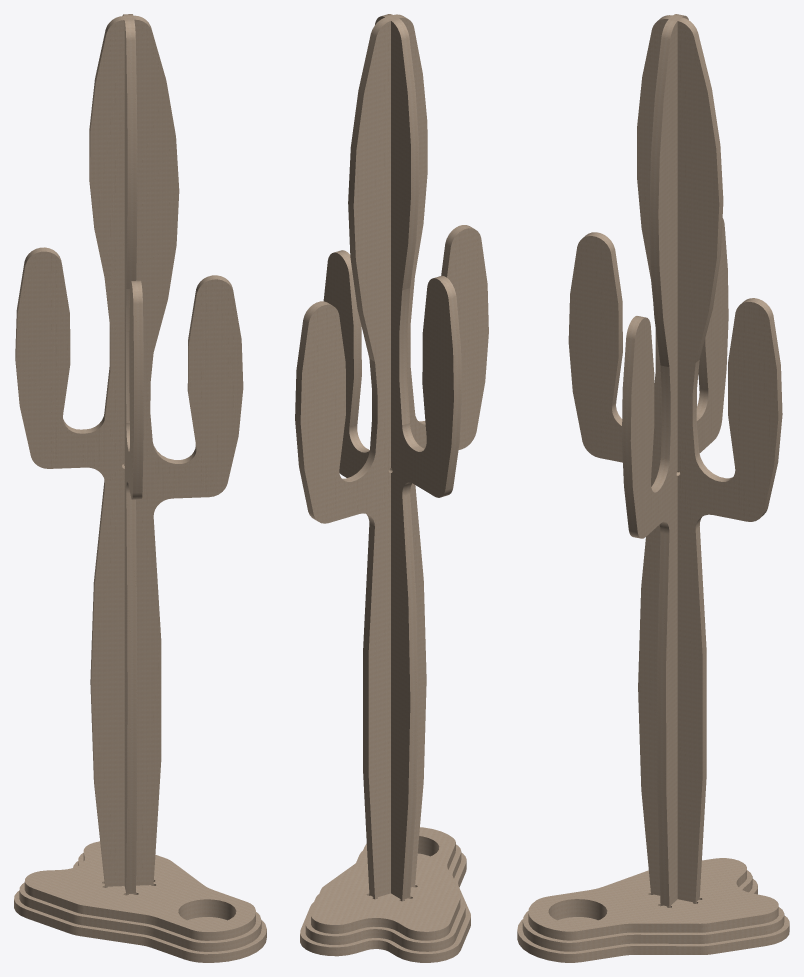
File: cacti_a_v2.gltf
3 renders of one model, left to right at view 1: azimuth 30°, elevation 25°; view 2: azimuth 150°, elevation 25°; view 3: azimuth 270°, elevation 25°, orthographic.
Parts seen in each view (by area): view 1: CACTI ASSEMBLY v3; view 2: CACTI ASSEMBLY v3; view 3: CACTI ASSEMBLY v3.
Part boxes in pixels (x1=…): CACTI ASSEMBLY v3: x1=14, y1=14, x2=266, y2=962; CACTI ASSEMBLY v3: x1=295, y1=14, x2=488, y2=962; CACTI ASSEMBLY v3: x1=517, y1=14, x2=789, y2=962.
Size of the model in its own units: 0.392 by 1.83 by 0.4991.
Materials: 1 (1 with a texture image).
